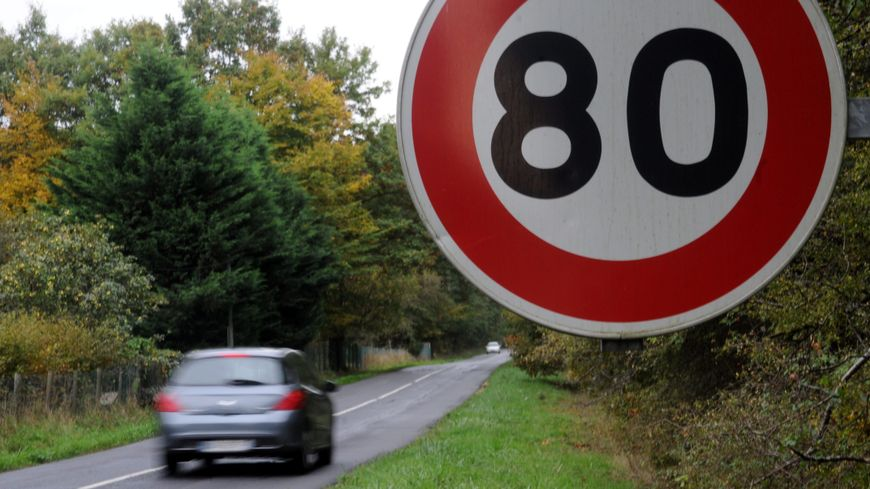Speed_limit_80km: (397, 3, 846, 337)
